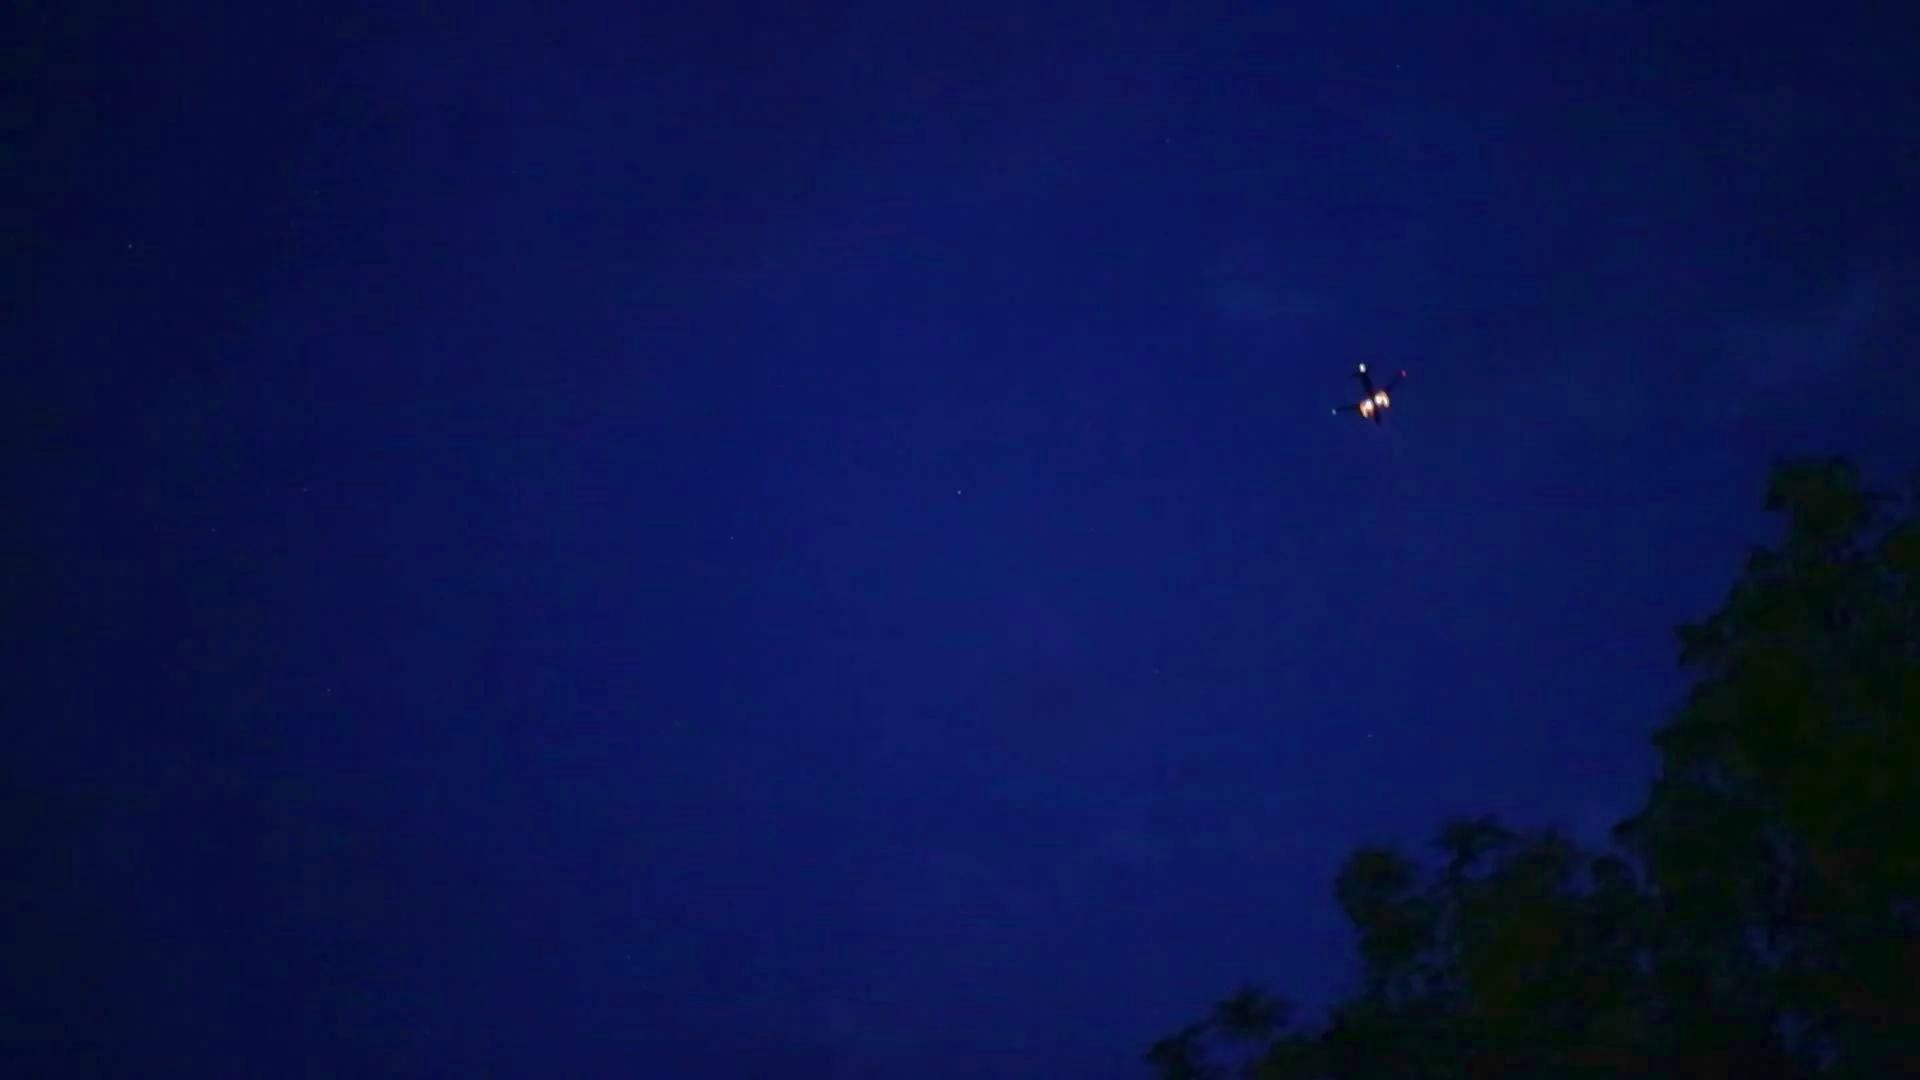Plane: (1328, 349, 1412, 436)
